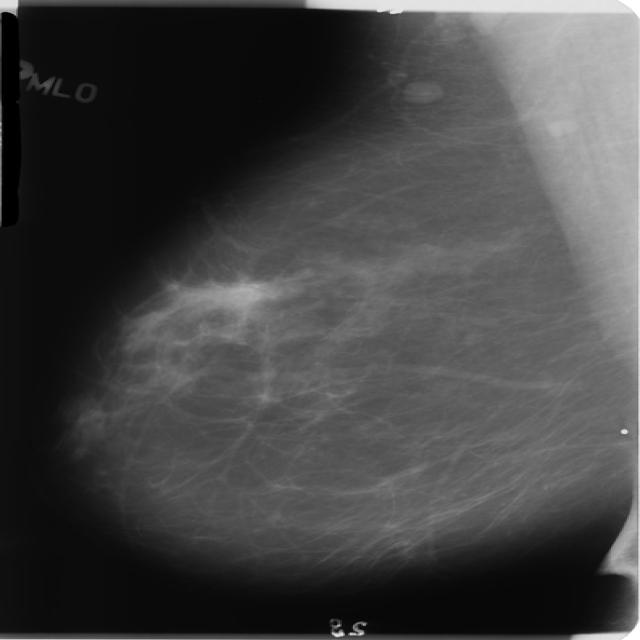tumour: (68, 395, 104, 435)
